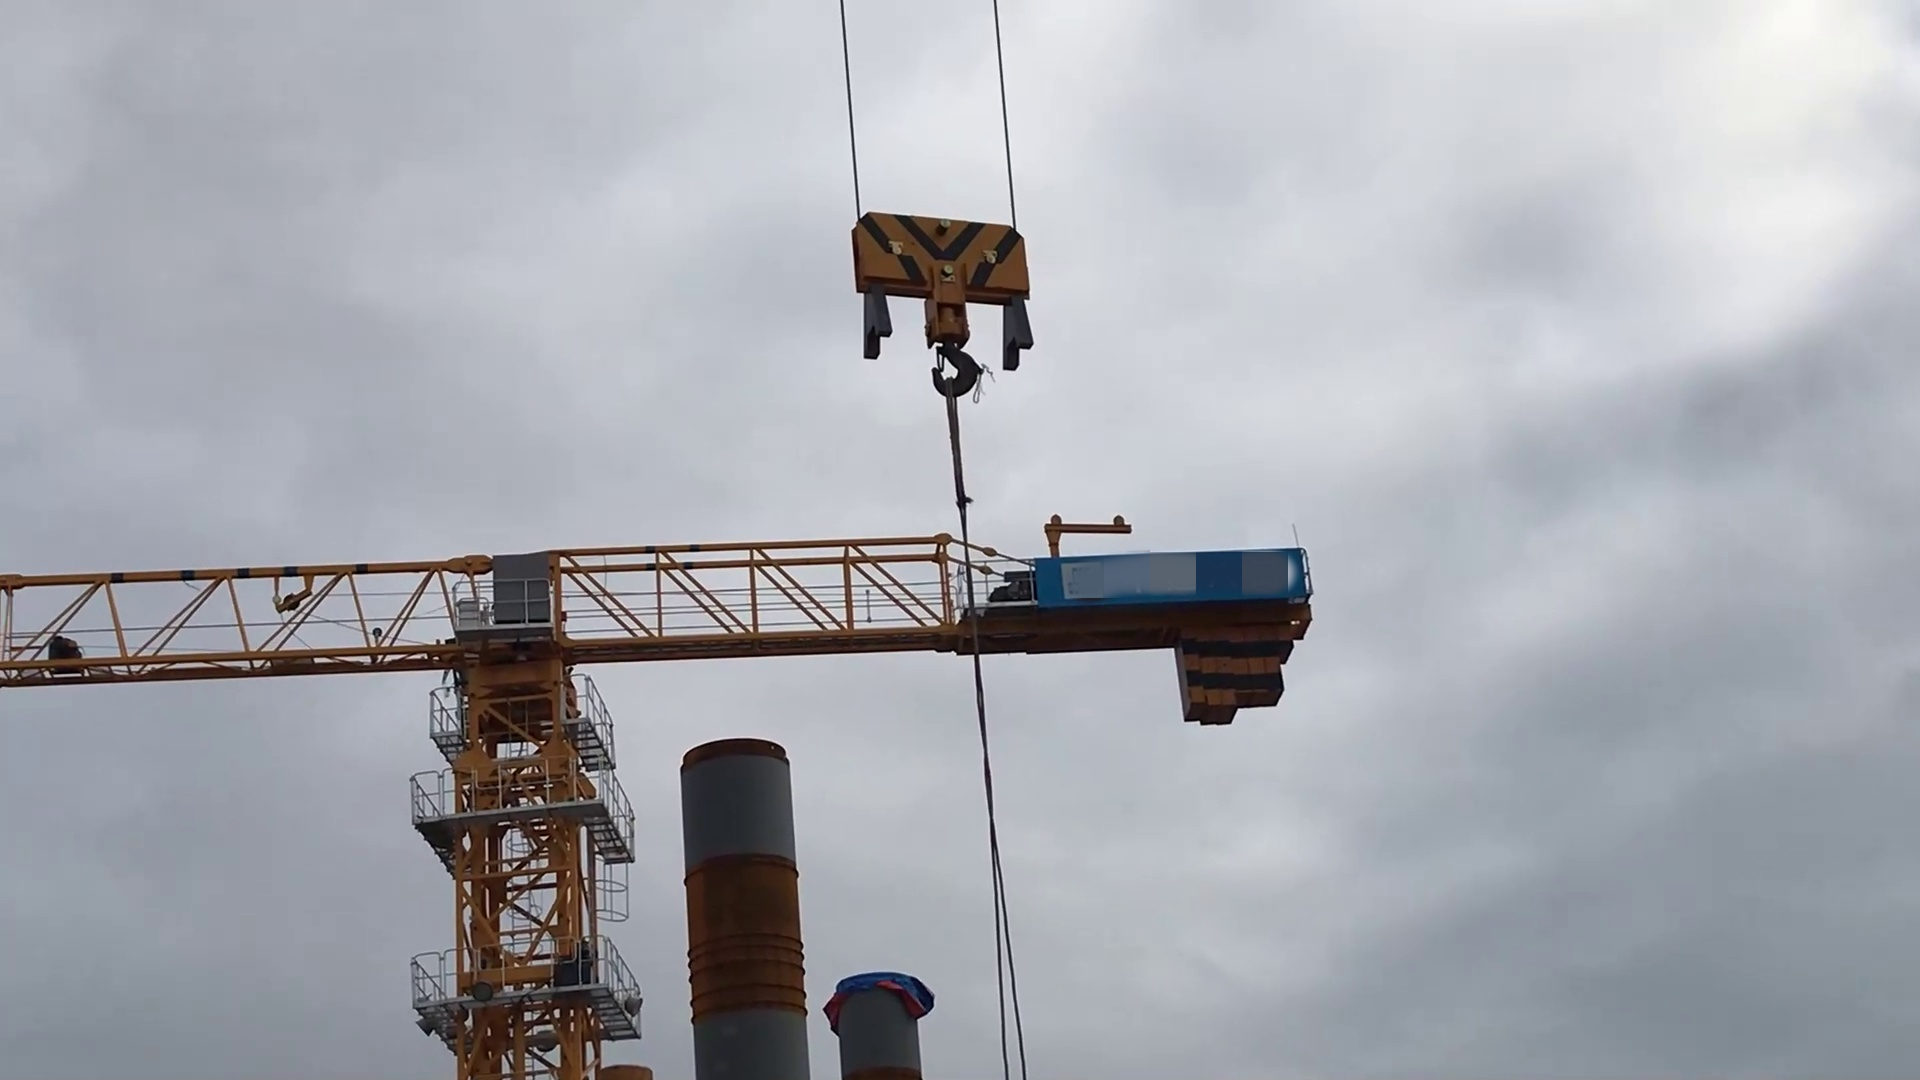hook: (841, 200, 1052, 411)
